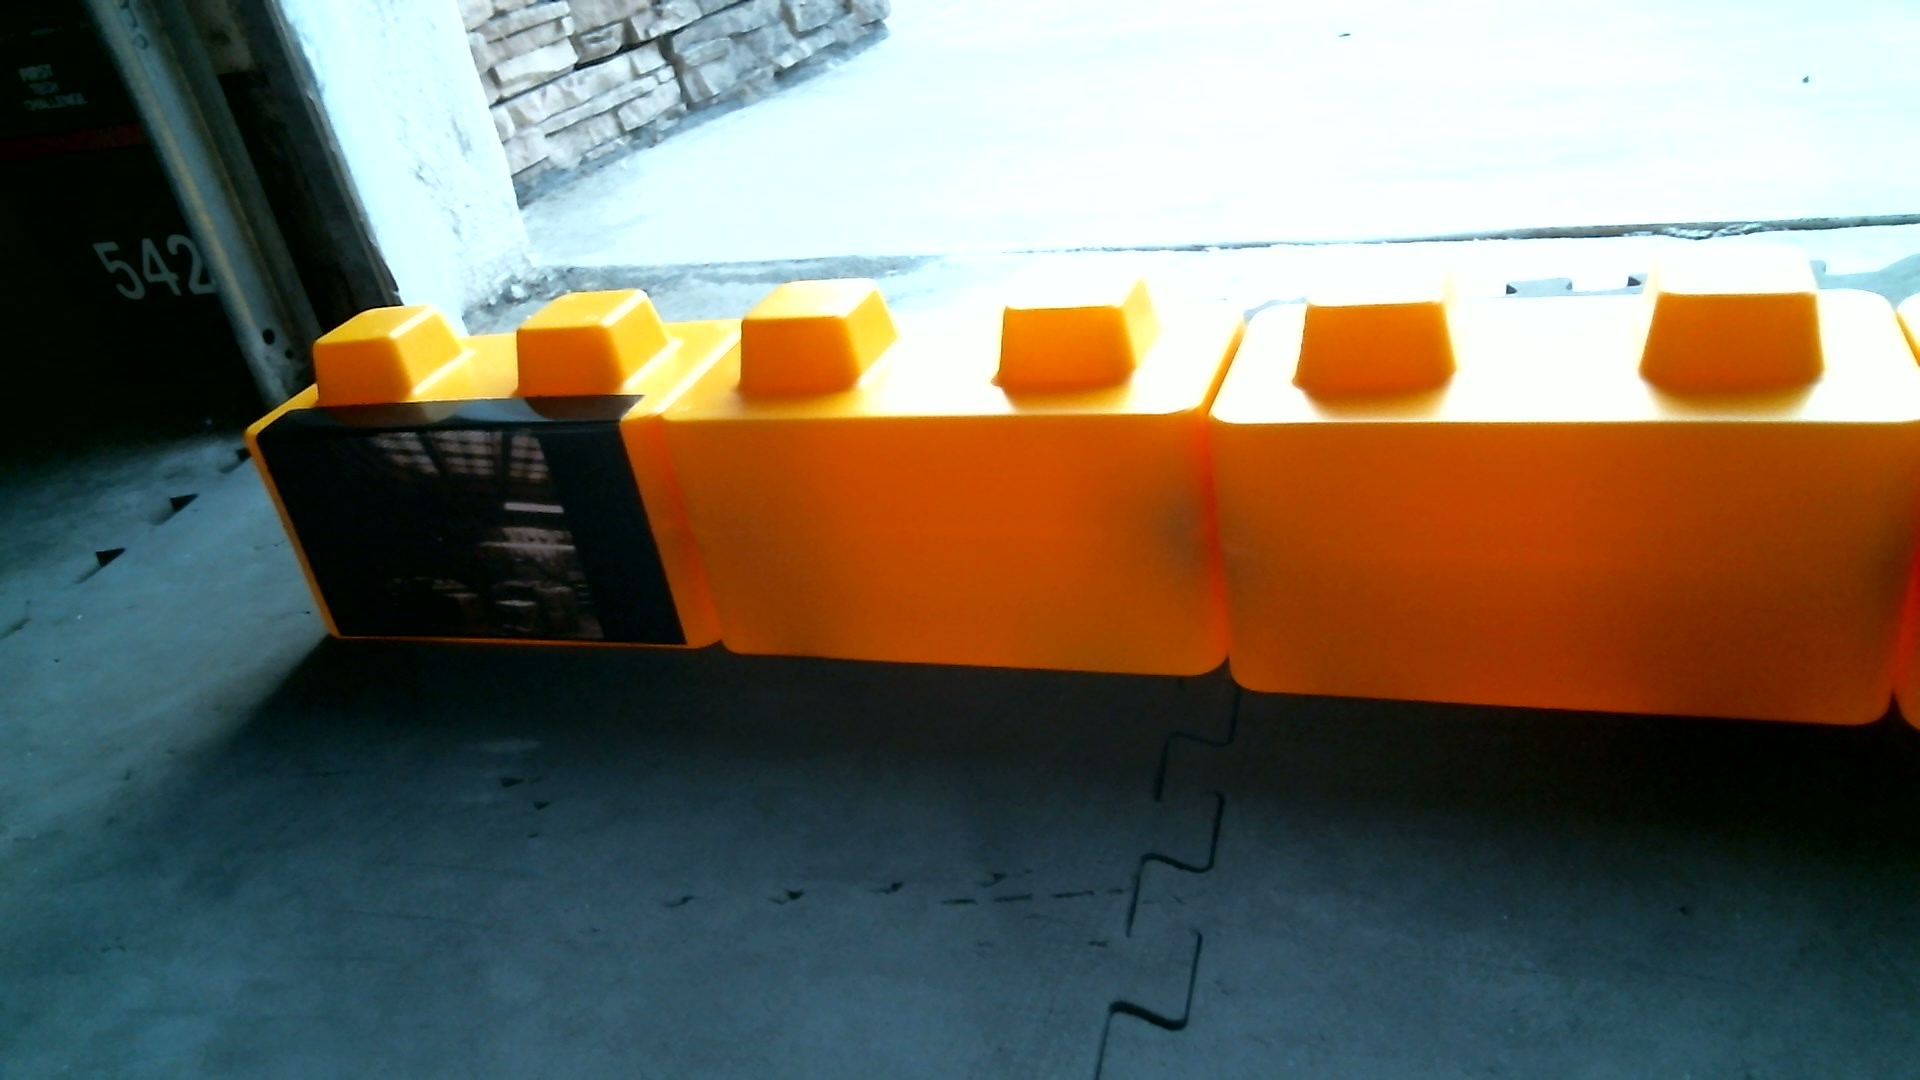left: (241, 243, 1919, 737)
